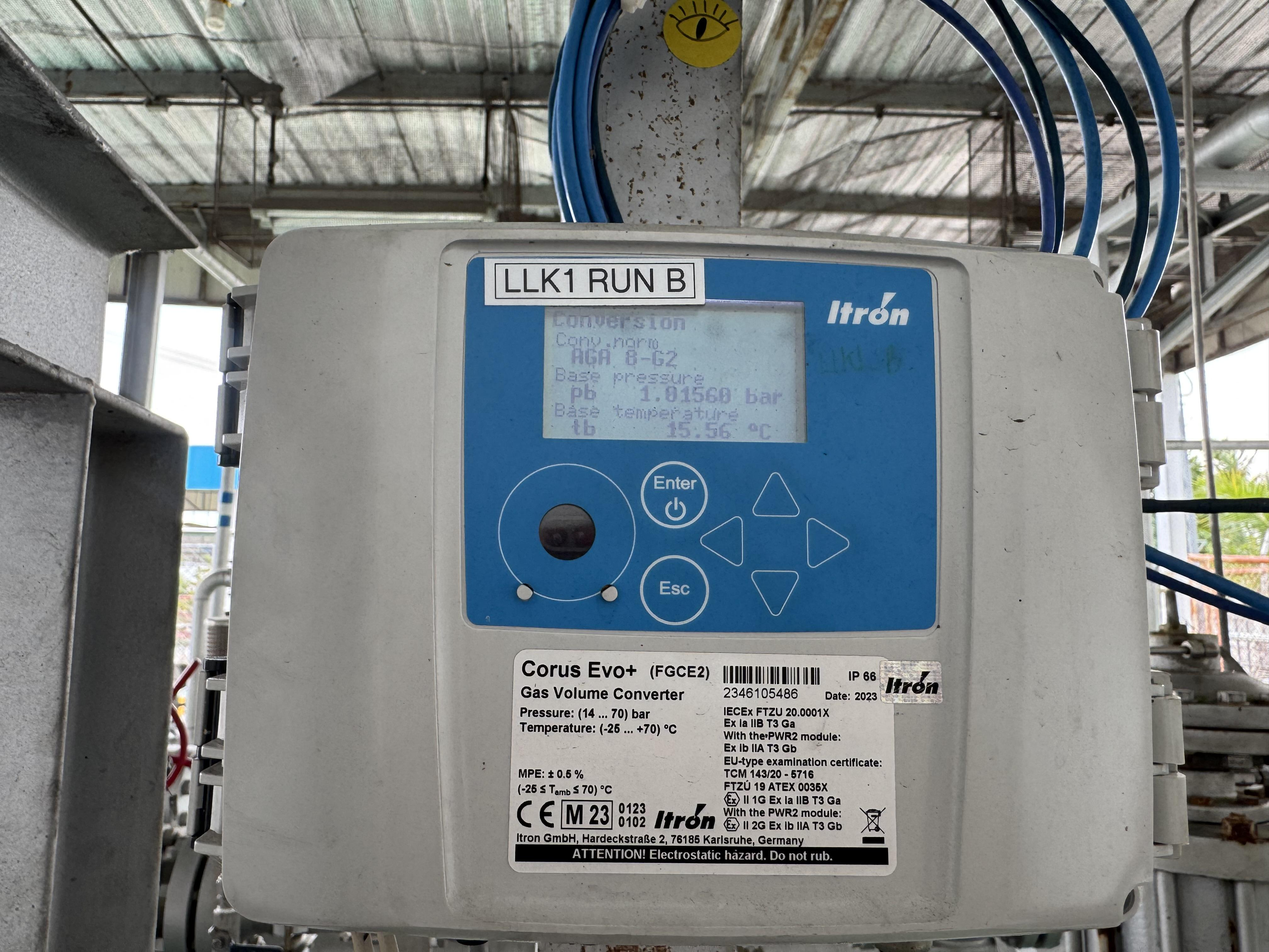digital_screen: (542, 296, 809, 442)
